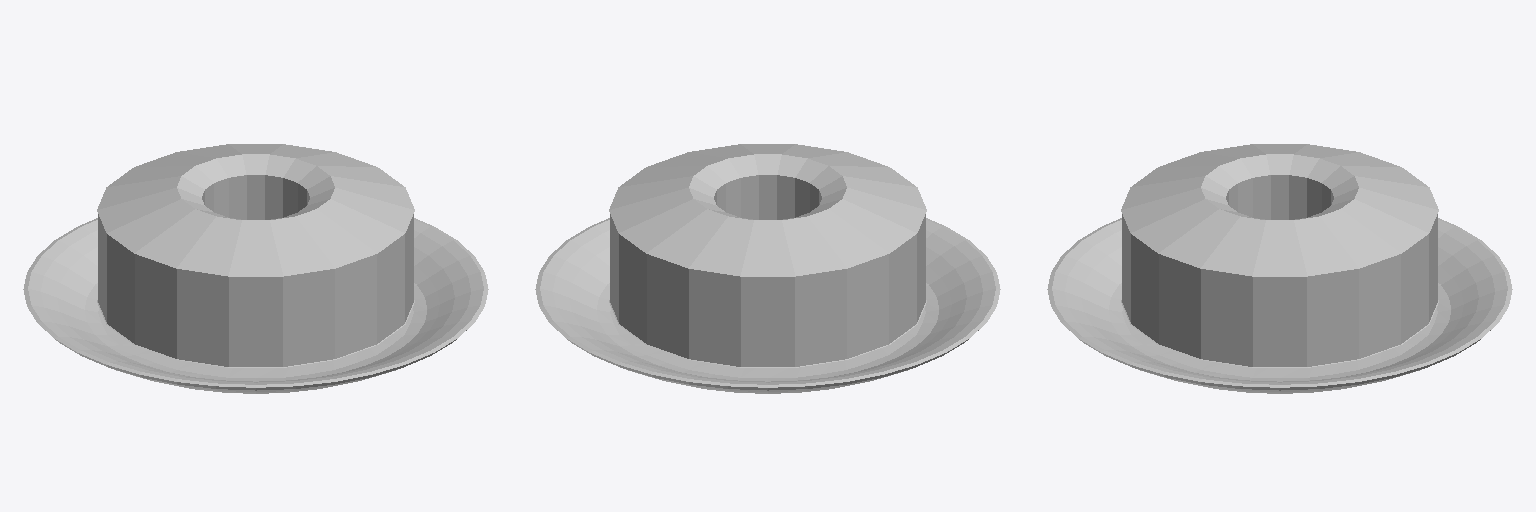
Rendered from BOLU. KUKUS.obj.
3 views of the same model, side by side, from view 1: azimuth 30°, elevation 25°; view 2: azimuth 150°, elevation 25°; view 3: azimuth 270°, elevation 25° (orthographic).
Parts seen in each view (by area): view 1: Cylinder.001, Cylinder; view 2: Cylinder.001, Cylinder; view 3: Cylinder.001, Cylinder.
Boxes of the visible parts, x1,y1,x2,y2 form: Cylinder.001: [97, 144, 414, 367]; Cylinder: [23, 218, 488, 393]; Cylinder.001: [609, 144, 926, 367]; Cylinder: [535, 218, 1000, 393]; Cylinder.001: [1121, 144, 1438, 367]; Cylinder: [1047, 218, 1512, 393].
Size of the model in its own units: 2.31 by 0.7503 by 2.31.